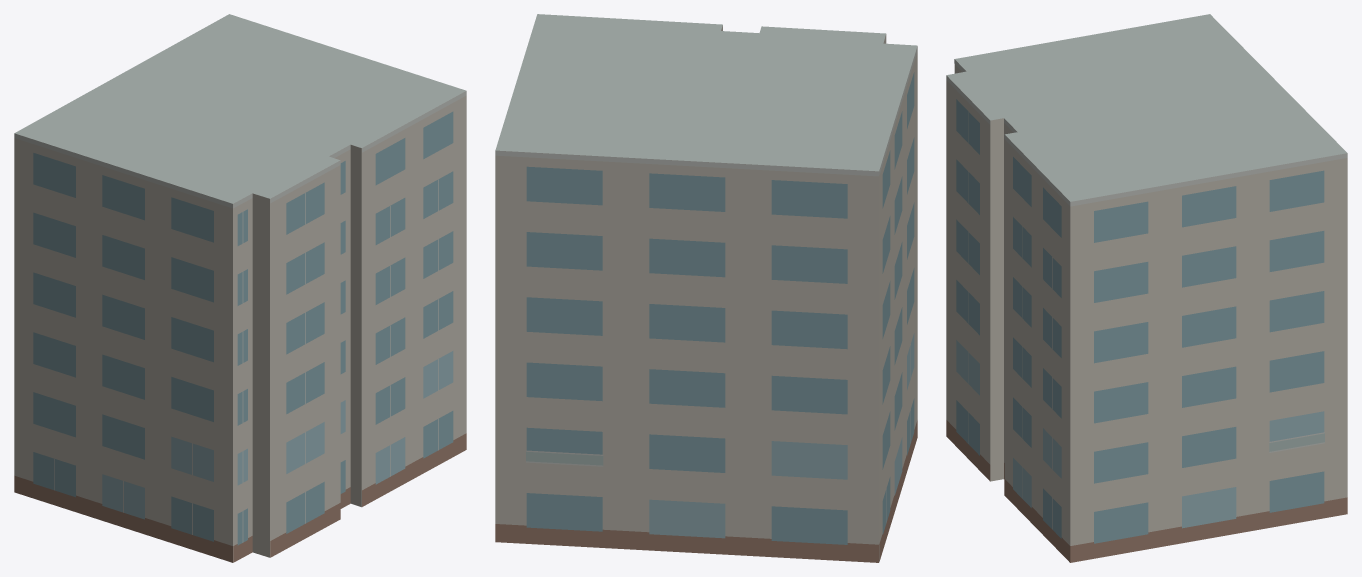
Rendered from survey-upis-32699798.glb.
The picture shows the model from 3 angles, left to right: view 1: azimuth 30°, elevation 25°; view 2: azimuth 150°, elevation 25°; view 3: azimuth 270°, elevation 25°; orthographic projection. The views are drawn at different scales.
Parts seen in each view (by area): view 1: survey-upis-32699798.tmp; view 2: survey-upis-32699798.tmp; view 3: survey-upis-32699798.tmp.
Part boxes in pixels (x1,y1,x2,y2): survey-upis-32699798.tmp: [14, 14, 466, 562]; survey-upis-32699798.tmp: [495, 14, 917, 562]; survey-upis-32699798.tmp: [946, 14, 1347, 562].
Bounding box in the file's own units: 20.88 × 18.7 × 18.85.
